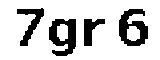6: (112, 7, 154, 51)
7: (12, 5, 46, 50)
g: (46, 18, 79, 60)
r: (82, 16, 107, 51)
